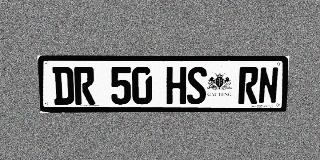0: (132, 67, 152, 105)
5: (111, 67, 131, 105)
D: (52, 67, 74, 105)
H: (166, 67, 186, 104)
N: (258, 67, 279, 104)
R: (74, 67, 95, 105), (238, 67, 259, 104)
S: (187, 67, 207, 104)
